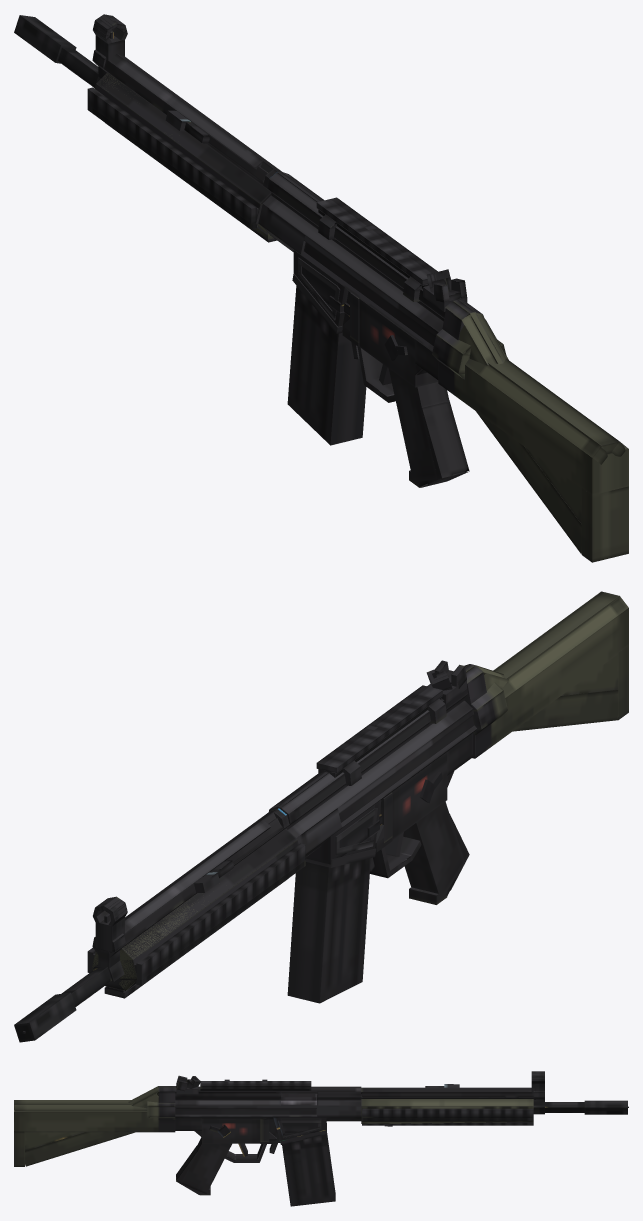
3 renders of one model, top to bottom at view 1: azimuth 30°, elevation 25°; view 2: azimuth 150°, elevation 25°; view 3: azimuth 270°, elevation 25°, orthographic. The views are drawn at different scales.
Visible parts, largest first — view 1: gun_105, underrail3_3, magazine_1, rail_1, frontsight_17, bolt2_2; view 2: gun_105, magazine_1, underrail3_3, rail_1, handguard_8, frontsight_17, bolt2_2, rail_7; view 3: gun_105, magazine_1, underrail3_3, handguard_8, rail_7, rail_1, action_3, frontsight_17, rail_2.
Boxes of the visible parts, bbox=[...] form: gun_105: bbox=[14, 15, 628, 562]; underrail3_3: bbox=[87, 72, 276, 242]; magazine_1: bbox=[287, 285, 366, 445]; rail_1: bbox=[316, 199, 431, 285]; frontsight_17: bbox=[93, 14, 127, 60]; bolt2_2: bbox=[165, 110, 268, 182]; gun_105: bbox=[14, 591, 628, 1042]; magazine_1: bbox=[287, 858, 370, 1003]; underrail3_3: bbox=[87, 828, 305, 998]; rail_1: bbox=[322, 686, 442, 773]; handguard_8: bbox=[91, 900, 197, 990]; frontsight_17: bbox=[93, 896, 127, 952]; bolt2_2: bbox=[194, 818, 281, 892]; rail_7: bbox=[316, 685, 427, 771]; gun_105: bbox=[14, 1075, 627, 1195]; magazine_1: bbox=[282, 1133, 335, 1206]; underrail3_3: bbox=[362, 1108, 533, 1125]; handguard_8: bbox=[361, 1099, 533, 1123]; rail_7: bbox=[200, 1084, 311, 1088]; rail_1: bbox=[200, 1081, 311, 1084]; action_3: bbox=[281, 1094, 316, 1105]; frontsight_17: bbox=[531, 1071, 544, 1091]; rail_2: bbox=[200, 1089, 311, 1090].
Size of the model in its own units: 0.3688 by 1.62 by 6.91.
